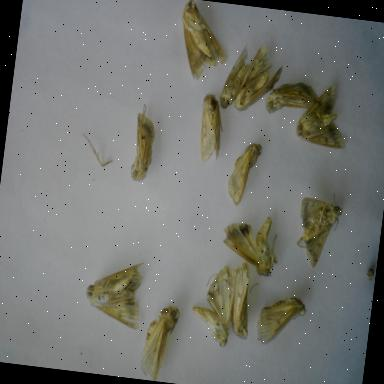abw: (78, 251, 150, 334), (185, 256, 243, 354), (288, 74, 358, 154), (171, 0, 235, 85), (287, 184, 347, 274), (216, 206, 286, 282), (134, 296, 184, 382), (229, 48, 286, 121), (250, 286, 312, 353), (123, 97, 162, 186), (220, 135, 266, 210), (218, 258, 258, 342), (216, 40, 260, 115), (262, 70, 324, 123), (192, 88, 230, 166)
